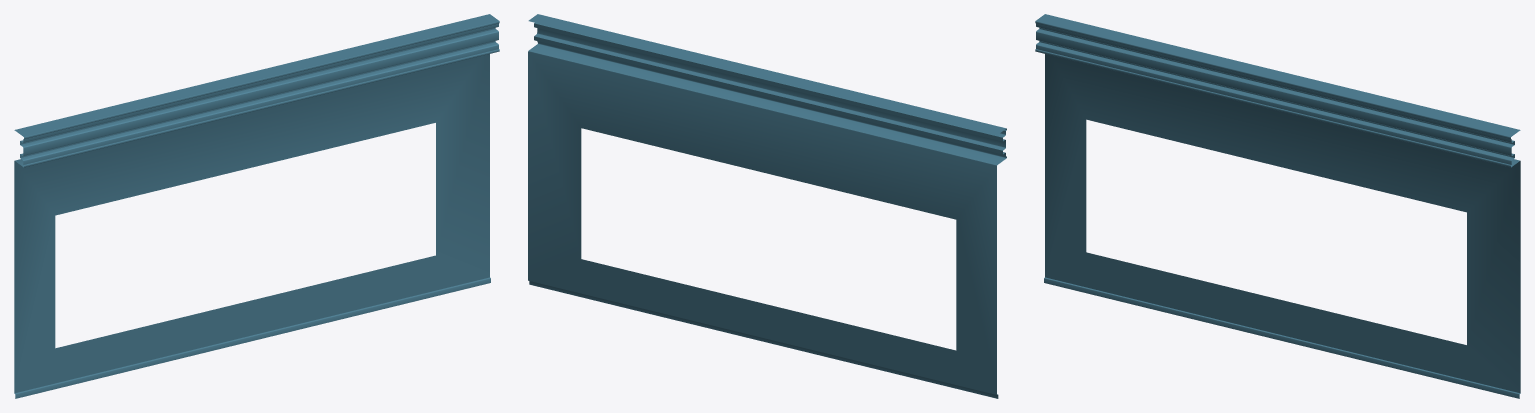
Rendered from GS_Ext_Front_Wall_Window.fbx.
The picture shows the model from 3 angles, left to right: view 1: azimuth 30°, elevation 25°; view 2: azimuth 150°, elevation 25°; view 3: azimuth 330°, elevation 25°; orthographic projection.
Parts seen in each view (by area): view 1: GS_Ext_Front_Wall_Window; view 2: GS_Ext_Front_Wall_Window; view 3: GS_Ext_Front_Wall_Window.
Boxes of the visible parts, left/top/right/bottom form: GS_Ext_Front_Wall_Window: left=14, top=14, right=499, bottom=398; GS_Ext_Front_Wall_Window: left=528, top=14, right=1006, bottom=398; GS_Ext_Front_Wall_Window: left=1035, top=14, right=1520, bottom=398.
Bounding box in the file's own units: 750 × 404 × 27.
